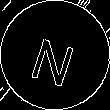N_N: (28, 25, 82, 85)
